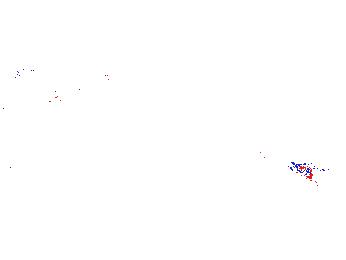X-ray fish: (261, 144, 277, 166)
glassfish: (288, 157, 346, 182)
redtail glassfish: (44, 78, 84, 106), (83, 58, 122, 77)
